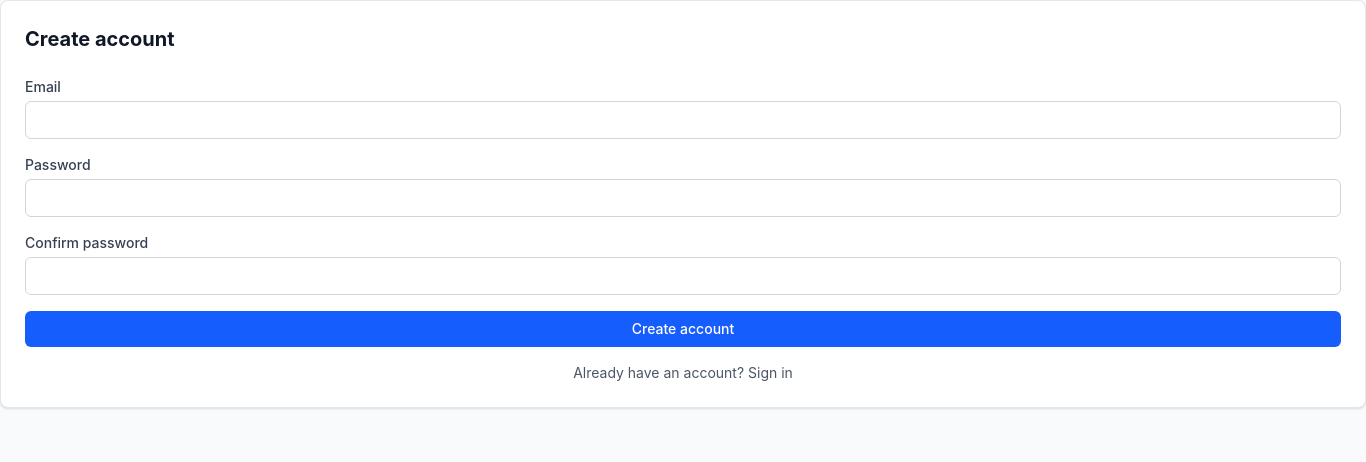
RegisterPage › shows "Email already in use" on 409 response
Type "new@test.com" into the field labelled "Email" at (683, 120), box [25, 101, 1341, 139]
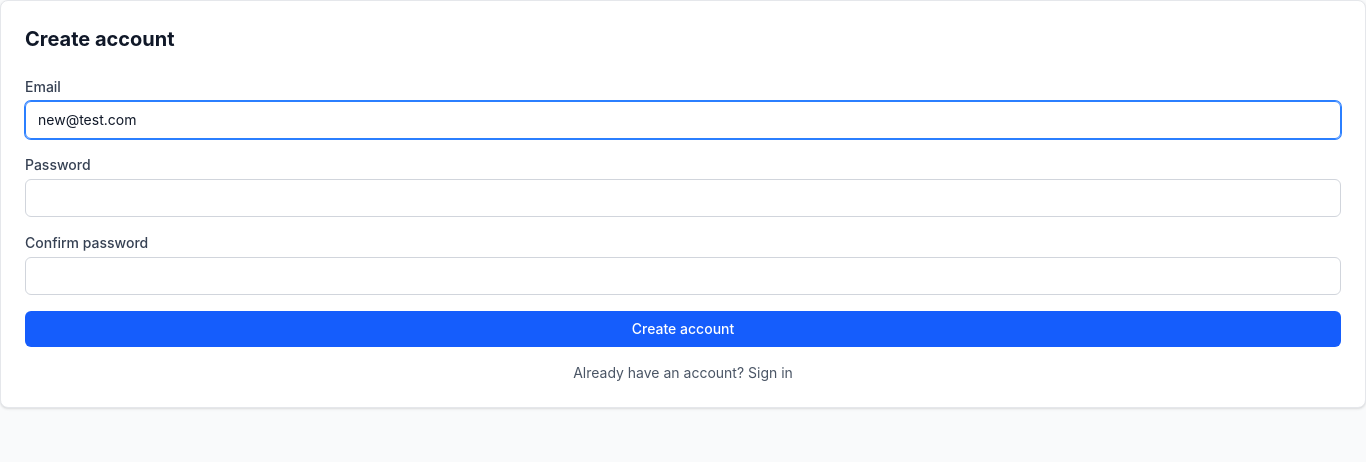
Type "password123" into the password field labelled "Password" at (683, 198), box [25, 179, 1341, 217]
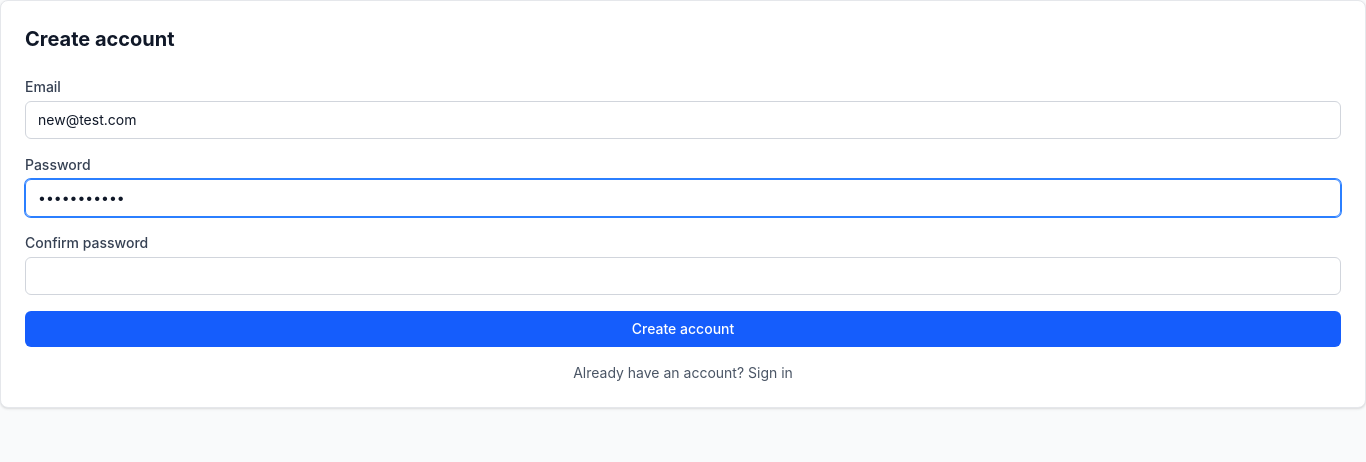
Type "password123" into the password field labelled "Confirm password" at (683, 276), box [25, 257, 1341, 295]
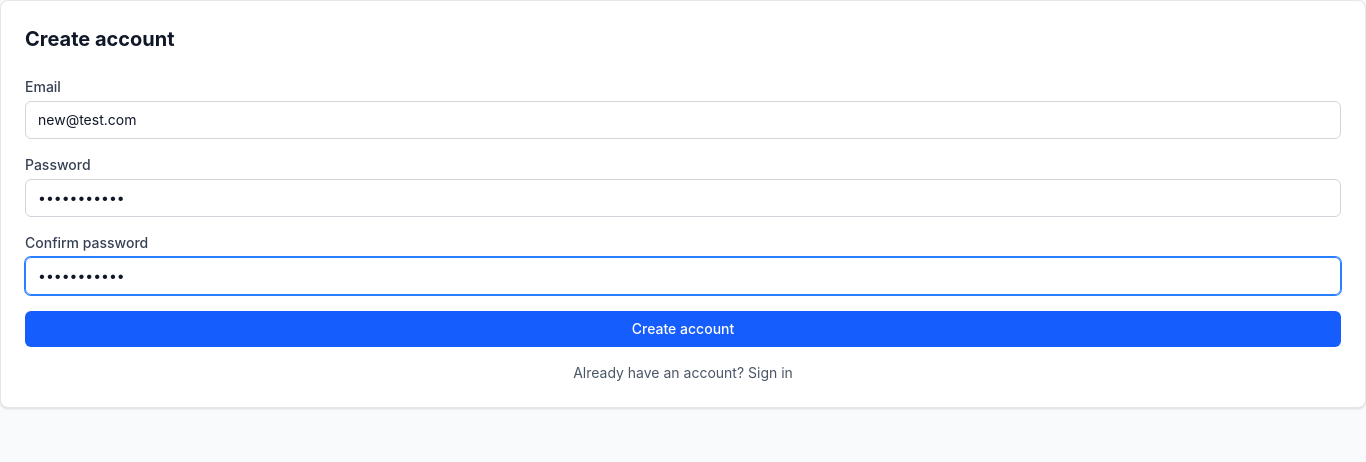
Click the button "Create account" at (683, 329), box [25, 311, 1341, 347]
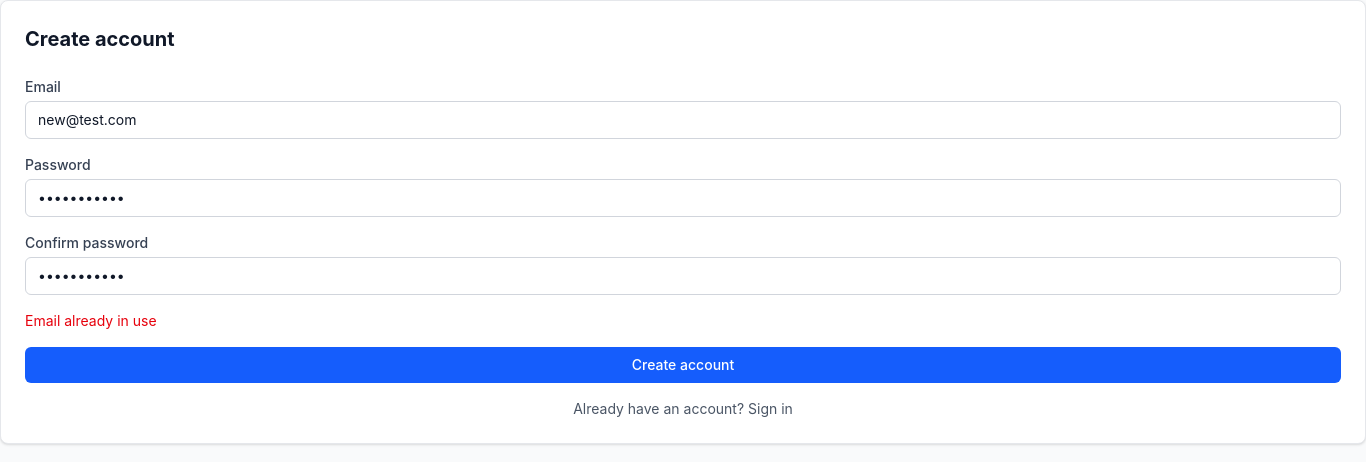
Expected: the text "Email already in use" is shown, [25, 312, 157, 329]
